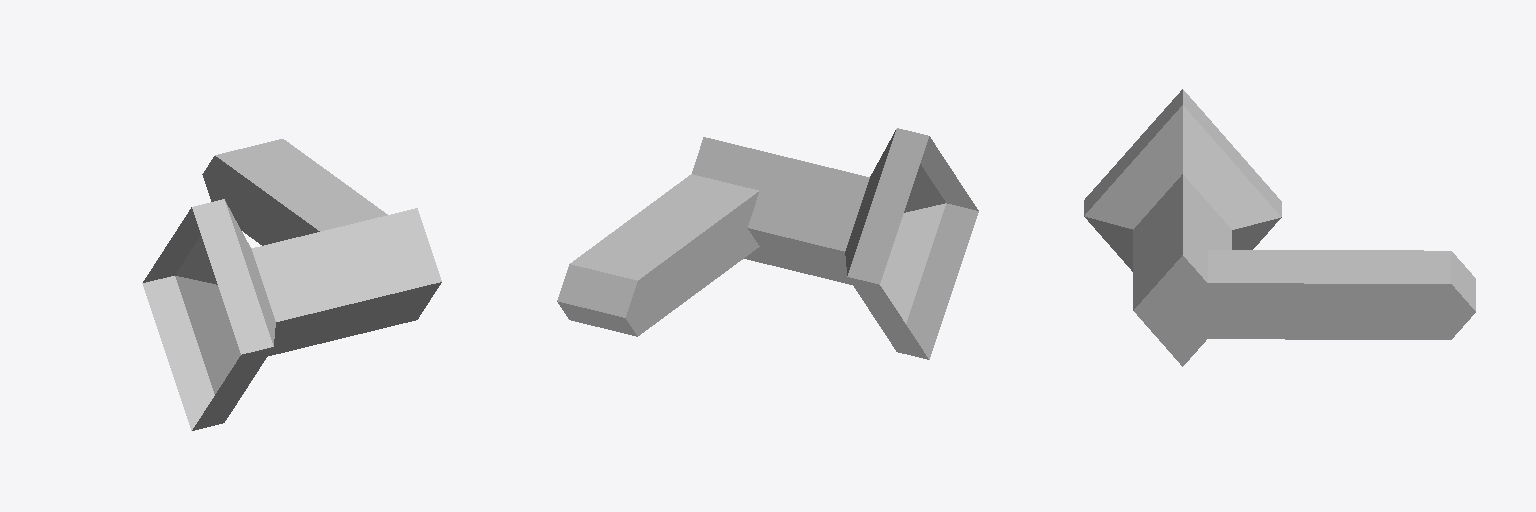
The model's file is Handle.obj.
3 renders of one model, left to right at view 1: azimuth 30°, elevation 25°; view 2: azimuth 150°, elevation 25°; view 3: azimuth 270°, elevation 25°, orthographic.
Parts seen in each view (by area): view 1: Cube.001_Cube.002; view 2: Cube.001_Cube.002; view 3: Cube.001_Cube.002.
Part boxes in pixels (bbox=[...]): Cube.001_Cube.002: bbox=[142, 139, 441, 430]; Cube.001_Cube.002: bbox=[557, 128, 978, 359]; Cube.001_Cube.002: bbox=[1084, 89, 1475, 366].
Bounding box in the file's own units: 2.63 × 2.5 × 3.96.